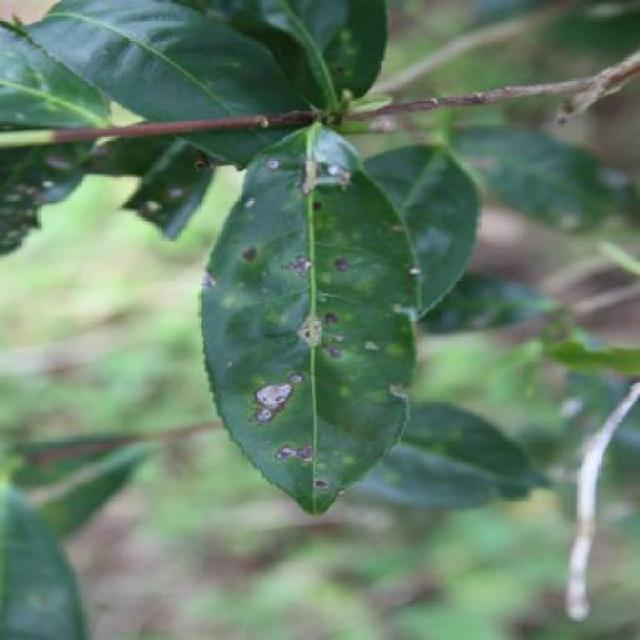Leaf rust of tea: (196, 117, 427, 518)
